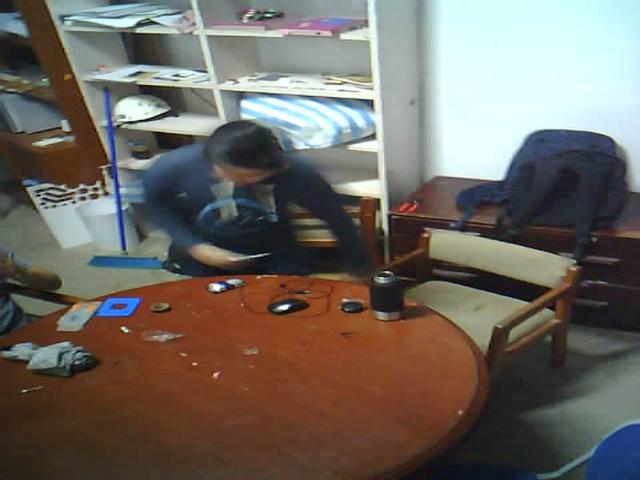person: (121, 93, 382, 316)
